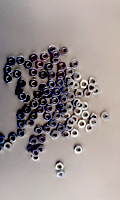nut: (7, 57, 17, 66), (18, 79, 27, 89), (24, 61, 34, 70), (30, 53, 39, 63), (30, 68, 39, 78), (60, 46, 69, 56), (71, 60, 80, 70), (87, 83, 96, 93), (53, 111, 62, 121), (89, 113, 99, 122), (4, 75, 13, 84), (14, 70, 23, 79), (30, 80, 39, 89), (39, 71, 48, 80), (52, 50, 61, 59), (58, 62, 67, 71), (57, 70, 66, 79), (66, 68, 75, 77), (56, 79, 65, 88), (101, 112, 110, 121), (71, 81, 80, 90), (89, 78, 98, 87), (84, 89, 93, 98), (74, 145, 83, 154), (9, 134, 18, 143), (17, 121, 26, 130), (17, 112, 26, 121), (36, 145, 45, 154), (38, 135, 47, 144), (18, 92, 27, 101), (39, 98, 48, 107), (61, 86, 70, 95), (59, 95, 68, 104), (51, 97, 60, 106), (49, 119, 58, 128), (60, 107, 69, 116), (56, 103, 65, 112), (65, 103, 74, 112), (81, 102, 90, 111), (90, 118, 99, 127), (82, 111, 91, 120), (78, 120, 87, 129), (17, 56, 25, 66), (41, 52, 49, 62), (46, 62, 54, 72), (4, 141, 12, 151), (43, 87, 51, 97), (66, 93, 76, 101), (36, 61, 45, 69), (49, 46, 57, 55), (49, 71, 57, 80), (74, 72, 82, 81), (65, 76, 73, 85), (67, 80, 76, 88), (81, 80, 89, 89), (93, 87, 101, 96), (75, 90, 84, 98), (57, 170, 66, 178), (18, 130, 26, 139), (27, 119, 35, 128), (35, 126, 43, 135), (30, 137, 38, 146), (27, 146, 35, 155), (32, 153, 40, 162), (43, 125, 51, 134), (24, 106, 32, 115), (16, 88, 24, 97), (31, 100, 39, 109), (34, 91, 43, 99), (53, 88, 62, 96), (45, 91, 54, 99), (45, 105, 54, 113), (30, 112, 38, 121), (44, 113, 52, 122), (57, 124, 65, 133), (62, 131, 71, 139), (71, 129, 79, 138), (74, 108, 83, 116), (86, 124, 95, 132), (5, 66, 13, 74), (52, 56, 60, 64), (48, 81, 56, 89), (56, 163, 64, 171), (32, 149, 40, 157), (51, 131, 59, 139), (23, 95, 31, 103), (39, 84, 47, 92), (37, 107, 45, 115), (68, 119, 76, 127), (73, 99, 81, 107), (71, 116, 79, 124), (77, 101, 84, 110), (66, 124, 73, 132), (63, 114, 71, 121), (0, 135, 5, 144), (0, 145, 3, 153)
